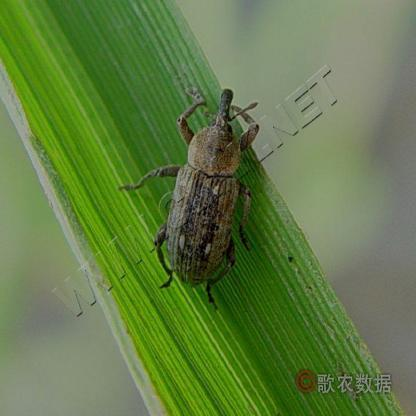rice-bug: (140, 90, 266, 296)
